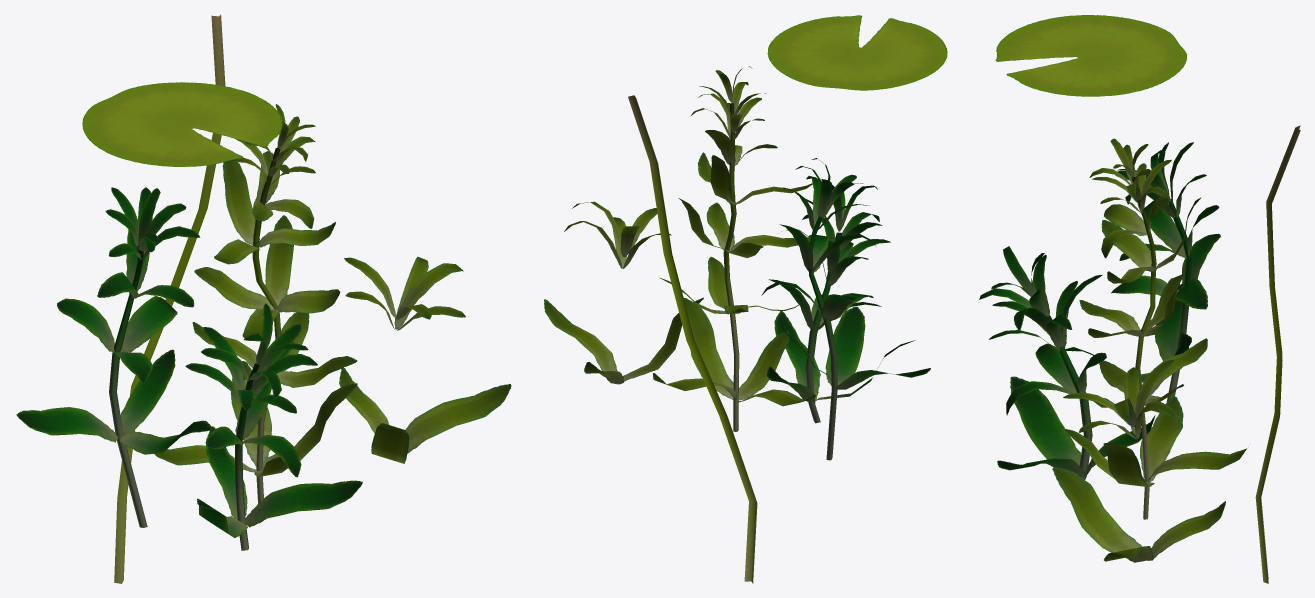
File: hydrilla-tuft.glb
The picture shows the model from 3 angles, left to right: view 1: azimuth 30°, elevation 25°; view 2: azimuth 150°, elevation 25°; view 3: azimuth 270°, elevation 25°; orthographic projection. The views are drawn at different scales.
Visible parts, largest first — view 1: Kuromo21__mLakePlant; view 2: Kuromo21__mLakePlant; view 3: Kuromo21__mLakePlant.
Part boxes in pixels (x1,y1,x2,y2): Kuromo21__mLakePlant: (16, 14, 511, 583); Kuromo21__mLakePlant: (544, 15, 947, 583); Kuromo21__mLakePlant: (979, 15, 1300, 583).
Size of the model in its own units: 0.9209 by 1 by 0.5723.
Materials: 1 (1 with a texture image).
